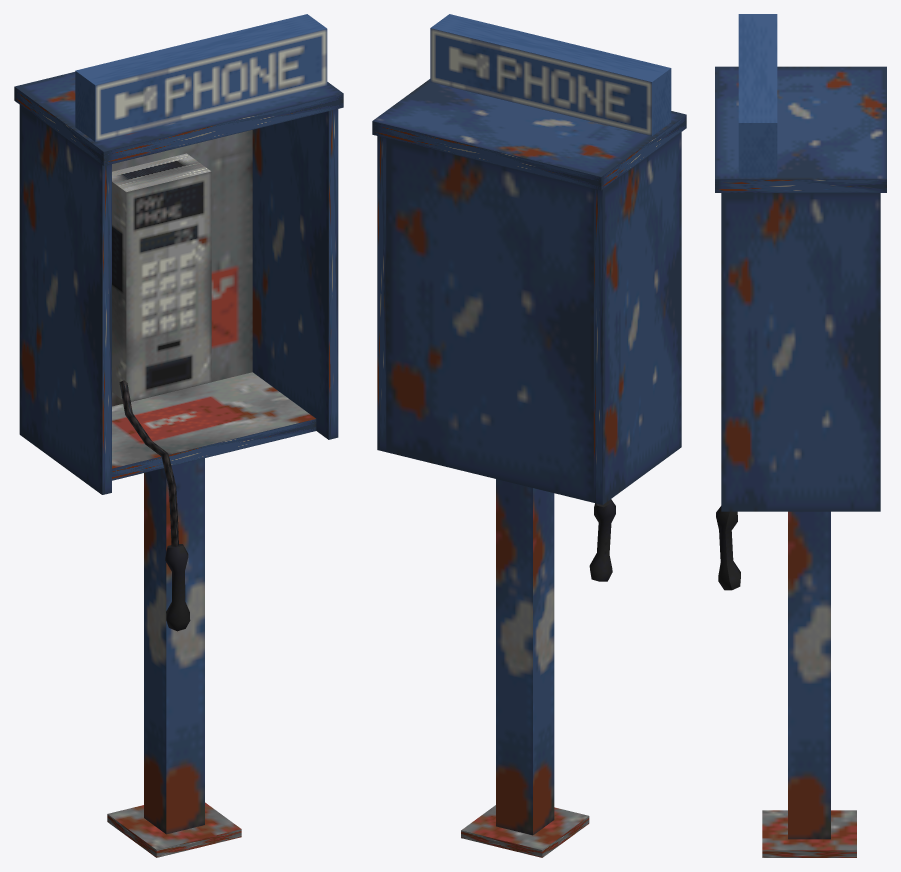
The model's file is payphone.obj.
3 views of the same model, side by side, from view 1: azimuth 30°, elevation 25°; view 2: azimuth 150°, elevation 25°; view 3: azimuth 270°, elevation 25° (orthographic). The views are drawn at different scales.
Visible parts, largest first — view 1: payphone; view 2: payphone; view 3: payphone.
Boxes of the visible parts, box(x1,y1,x2,y2) form: payphone: box(14, 14, 343, 857); payphone: box(372, 14, 686, 857); payphone: box(715, 14, 886, 857).
Size of the model in its own units: 0.62 by 1.98 by 0.4.
Materials: 2 (2 with a texture image).
